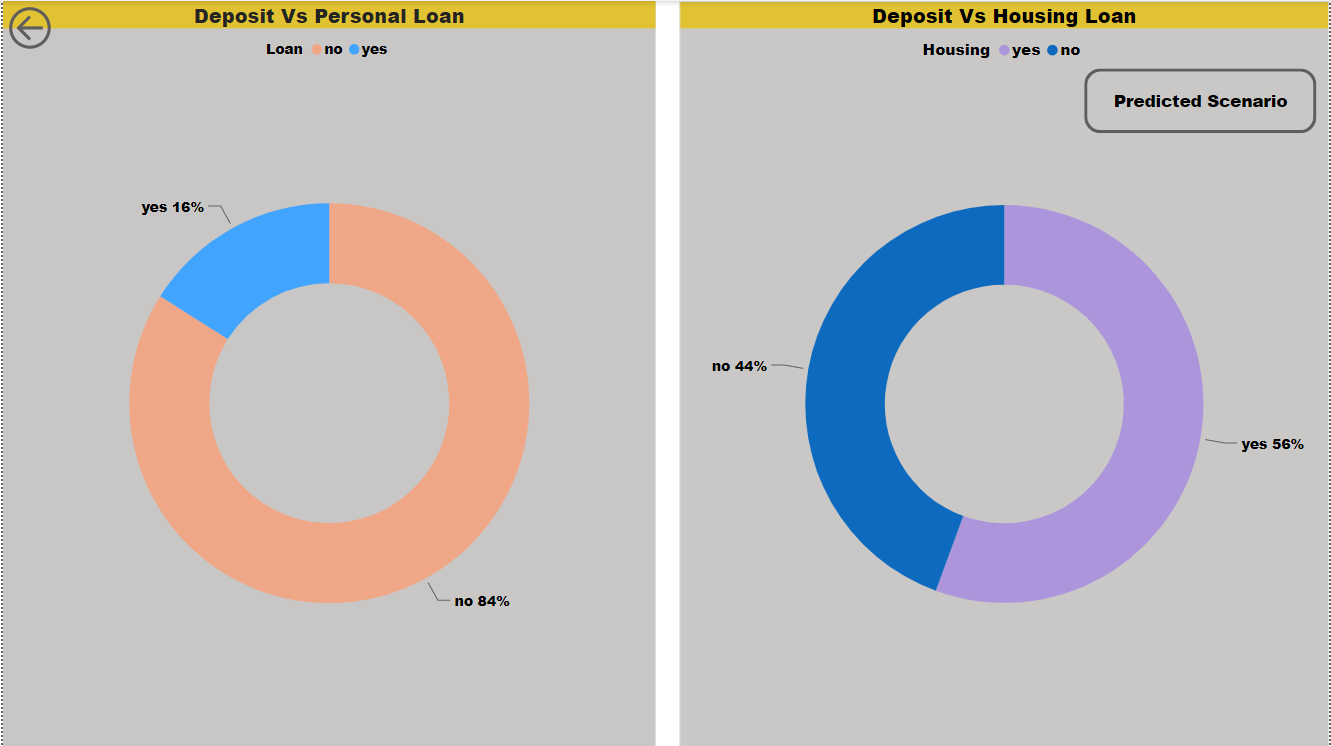

This screenshot's page, from the dashboard's own definition file:
{"tool":"powerbi","page":{"name":"Deposit Vs Loan","canvas":[1280,720],"ordinal":20},"visuals":[{"type":"donutChart","title":" Deposit Vs Personal Loan","fields":{"Category":["bank-full_New.loan"],"Y":["CountNonNull(bank-full_New.Deposit)"]},"box":[0,0,629.5,720],"z":0},{"type":"donutChart","title":" Deposit  Vs Housing Loan","fields":{"Category":["bank-full_New.housing"],"Y":["CountNonNull(bank-full_New.Deposit)"]},"box":[652.5,0,627.1,720],"z":1000},{"type":"actionButton","box":[1043.2,65.1,224.3,62.7],"z":2000},{"type":"actionButton","box":[0,0,100.1,51.9],"z":3000}]}

Visuals, with their boxes in screenshot pixels (x1, y1, x2, y2), scaled from the page's 1280x720 canvas onto the 1331x746 screenshot:
" Deposit Vs Personal Loan" donutChart: 0, 0, 655, 745
" Deposit  Vs Housing Loan" donutChart: 678, 0, 1330, 745
actionButton: 1085, 67, 1318, 132
actionButton: 0, 0, 104, 54
